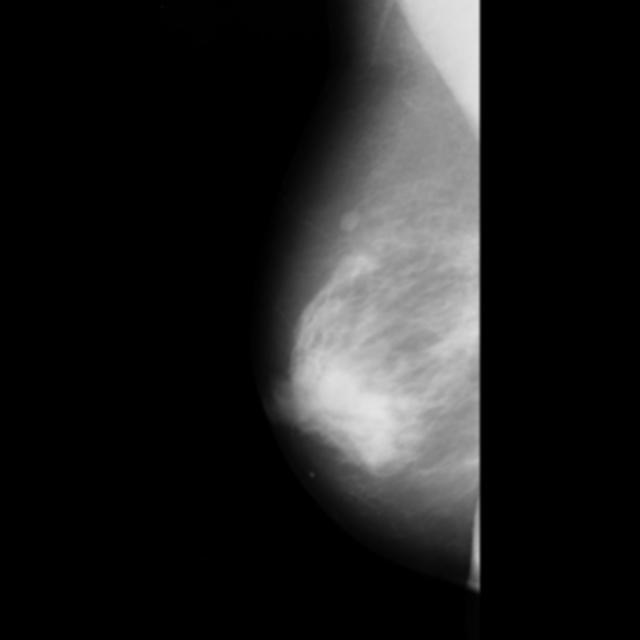ASYM: (456, 299, 491, 334)
